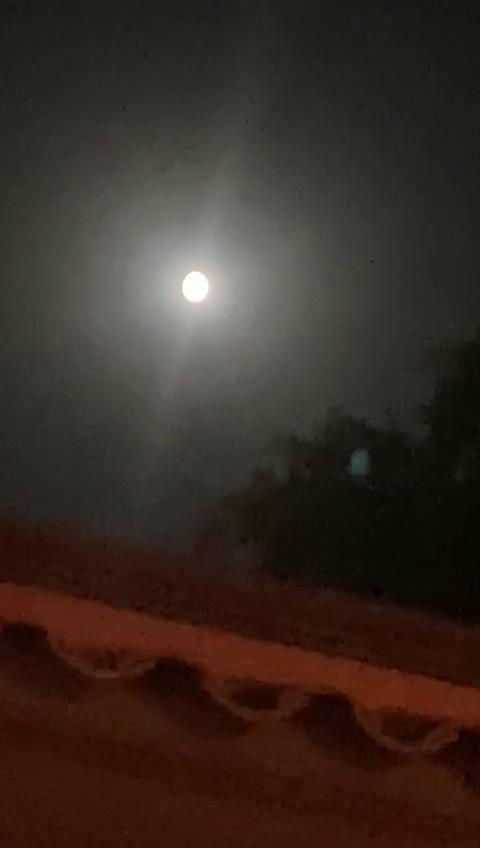moon: (181, 272, 225, 324)
